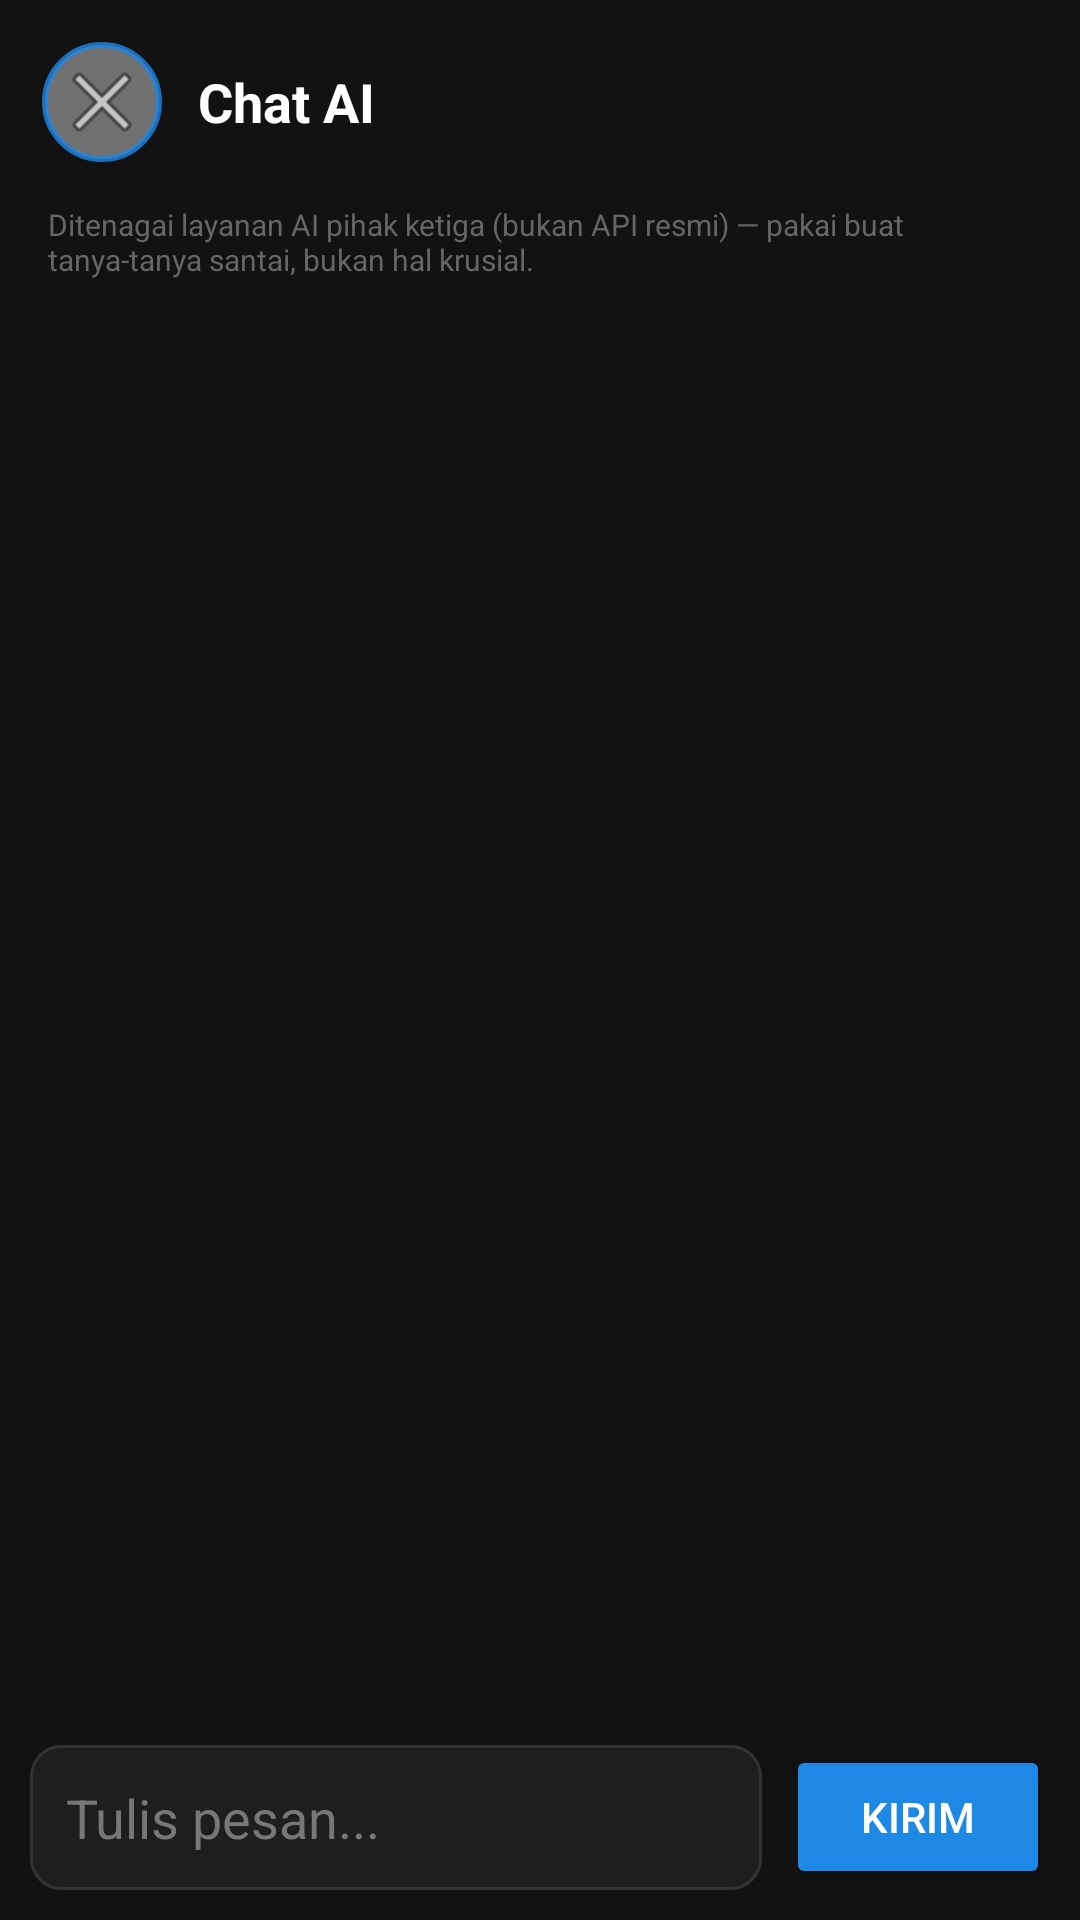

Locate icon controls on the screen. Image size 1080x1920, boxes as region(x1, y1, x2, y2).
Kembali: region(42, 42, 162, 162)
